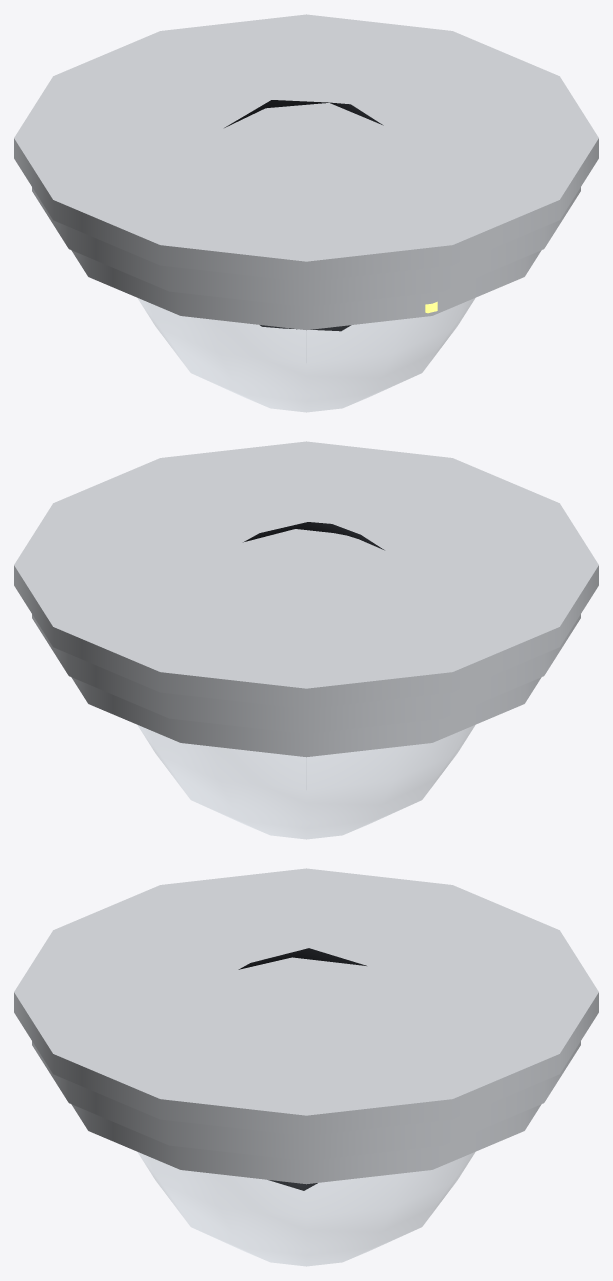
Rendered from SEC_Camera_Dome_Ceiling.fbx.
3 renders of one model, top to bottom at view 1: azimuth 30°, elevation 25°; view 2: azimuth 150°, elevation 25°; view 3: azimuth 270°, elevation 25°, orthographic.
Parts seen in each view (by area): view 1: SEC_Camera_Dome_Ceiling, Dome_Base, Dome_Cover, Camera_Module; view 2: SEC_Camera_Dome_Ceiling, Dome_Base, Dome_Cover, Camera_Module; view 3: SEC_Camera_Dome_Ceiling, Dome_Base, Dome_Cover, Camera_Module.
Part boxes in pixels (box(x1,y1,x2,y2)): SEC_Camera_Dome_Ceiling: box(14, 14, 598, 281); Dome_Base: box(32, 187, 580, 330); Dome_Cover: box(138, 298, 474, 412); Camera_Module: box(224, 100, 383, 331); SEC_Camera_Dome_Ceiling: box(14, 441, 598, 708); Dome_Base: box(32, 614, 580, 757); Dome_Cover: box(138, 725, 474, 839); Camera_Module: box(243, 522, 384, 550); SEC_Camera_Dome_Ceiling: box(14, 868, 598, 1135); Dome_Base: box(32, 1041, 580, 1184); Dome_Cover: box(138, 1152, 474, 1266); Camera_Module: box(238, 948, 366, 1190).
Bounding box in the file's own units: 13 × 7.09 × 13.
Materials: 4 (1 with a texture image).
